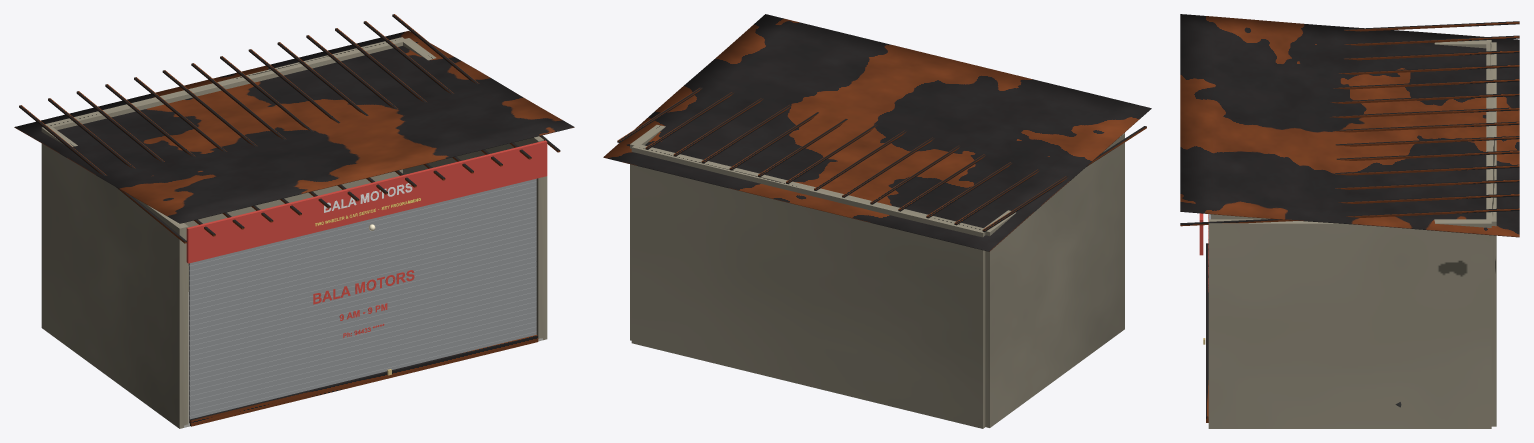
Rendered from bala_workshop_closed.glb.
3 views of the same model, side by side, from view 1: azimuth 30°, elevation 25°; view 2: azimuth 150°, elevation 25°; view 3: azimuth 270°, elevation 25° (orthographic). The views are drawn at different scales.
Parts seen in each view (by area): view 1: bala_workshop_closed; view 2: bala_workshop_closed; view 3: bala_workshop_closed.
Part boxes in pixels (<box>): bala_workshop_closed: <box>14,14,574,428</box>; bala_workshop_closed: <box>603,14,1151,428</box>; bala_workshop_closed: <box>1180,14,1519,428</box>.
Bounding box in the file's own units: 6.6 × 3.52 × 4.8.
Materials: 49 (3 with a texture image).
